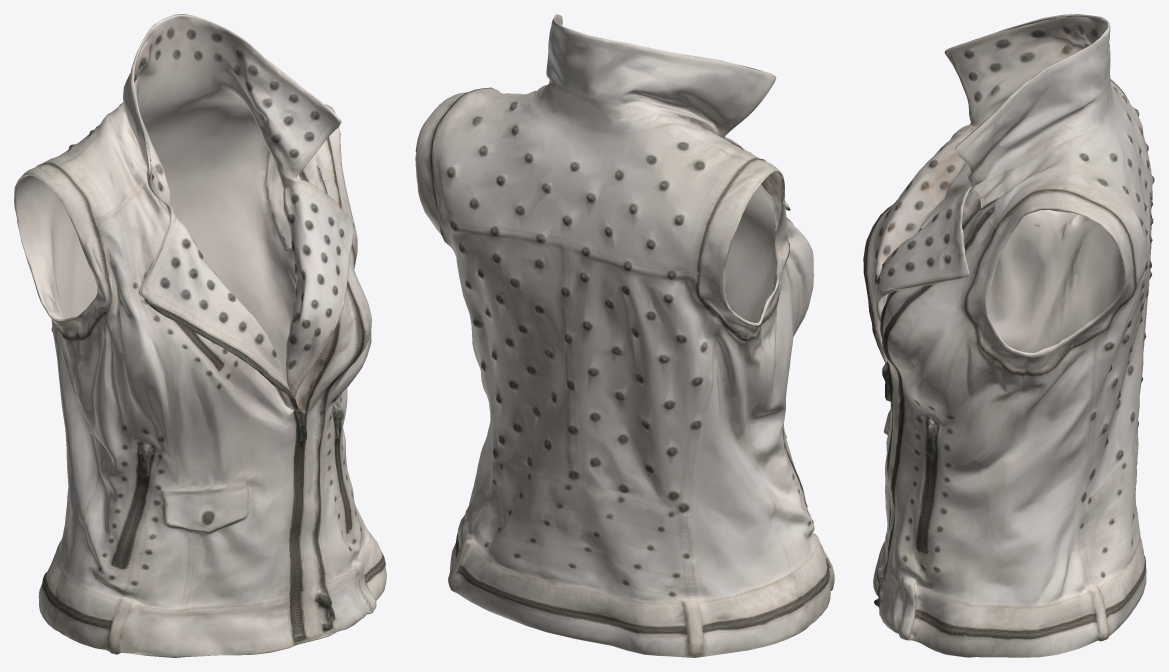
File: K_White_Jacket.glb
3 renders of one model, left to right at view 1: azimuth 30°, elevation 25°; view 2: azimuth 150°, elevation 25°; view 3: azimuth 270°, elevation 25°, orthographic. The views are drawn at different scales.
Parts seen in each view (by area): view 1: Group29649; view 2: Group29649; view 3: Group29649.
Boxes of the visible parts, x1,y1,x2,y2 form: Group29649: [14, 14, 386, 657]; Group29649: [415, 14, 834, 657]; Group29649: [863, 14, 1154, 657].
Bounding box in the file's own units: 0.3559 × 0.5997 × 0.2789.
1 material, 1 textured.
